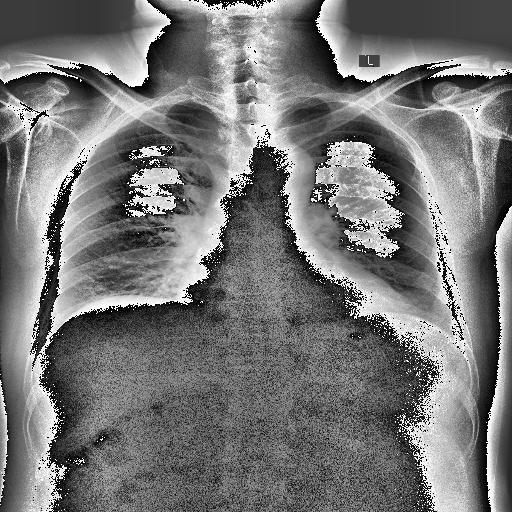0- Aortic enlargement: (271, 142, 316, 196)
3- Cardiomegaly: (173, 252, 413, 320), (171, 268, 412, 312), (174, 280, 416, 322)
